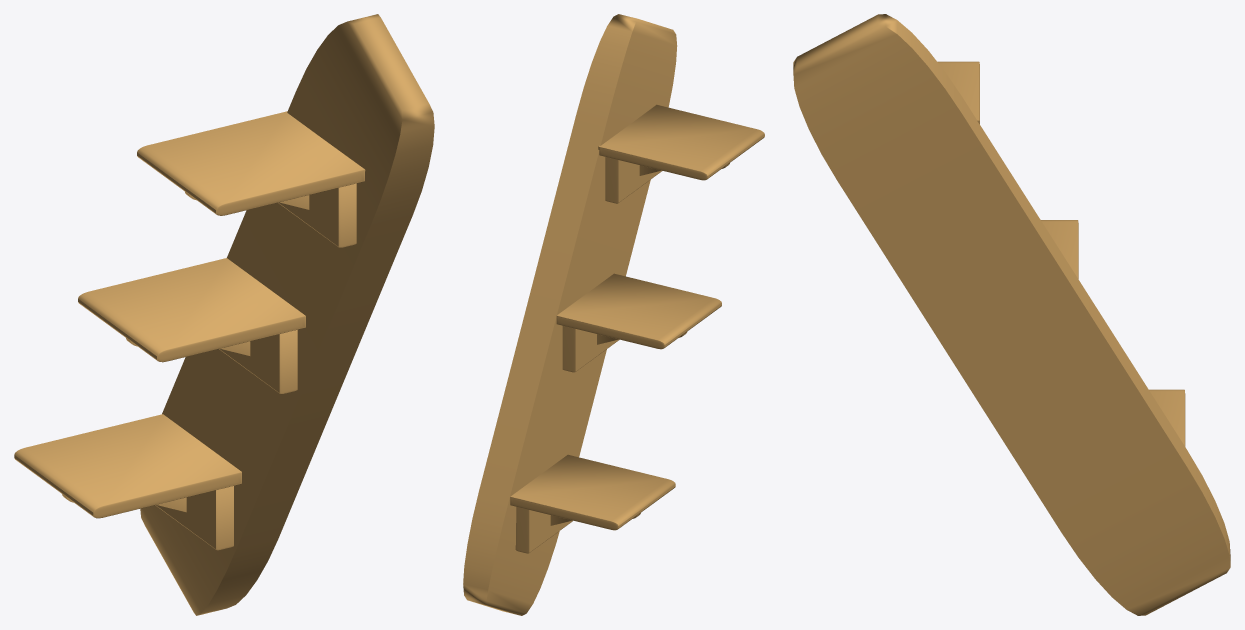
Rendered from duality_stairs_up.fbx.
3 renders of one model, left to right at view 1: azimuth 30°, elevation 25°; view 2: azimuth 150°, elevation 25°; view 3: azimuth 270°, elevation 25°, orthographic. The views are drawn at different scales.
Visible parts, largest first — view 1: stair; view 2: stair; view 3: stair.
Boxes of the visible parts, box(x1,y1,x2,y2) form: stair: box(14, 14, 434, 615); stair: box(463, 14, 764, 615); stair: box(793, 14, 1230, 615).
Bounding box in the file's own units: 254 × 897 × 603.
